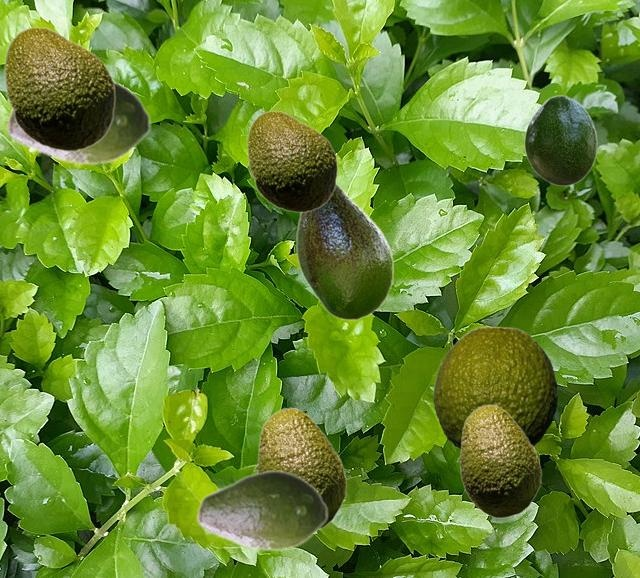avocado: (433, 326, 556, 449), (3, 26, 115, 151), (296, 183, 393, 319), (6, 78, 151, 165), (253, 407, 346, 529), (196, 469, 328, 551), (456, 404, 541, 517), (246, 110, 337, 212), (524, 95, 596, 185)
